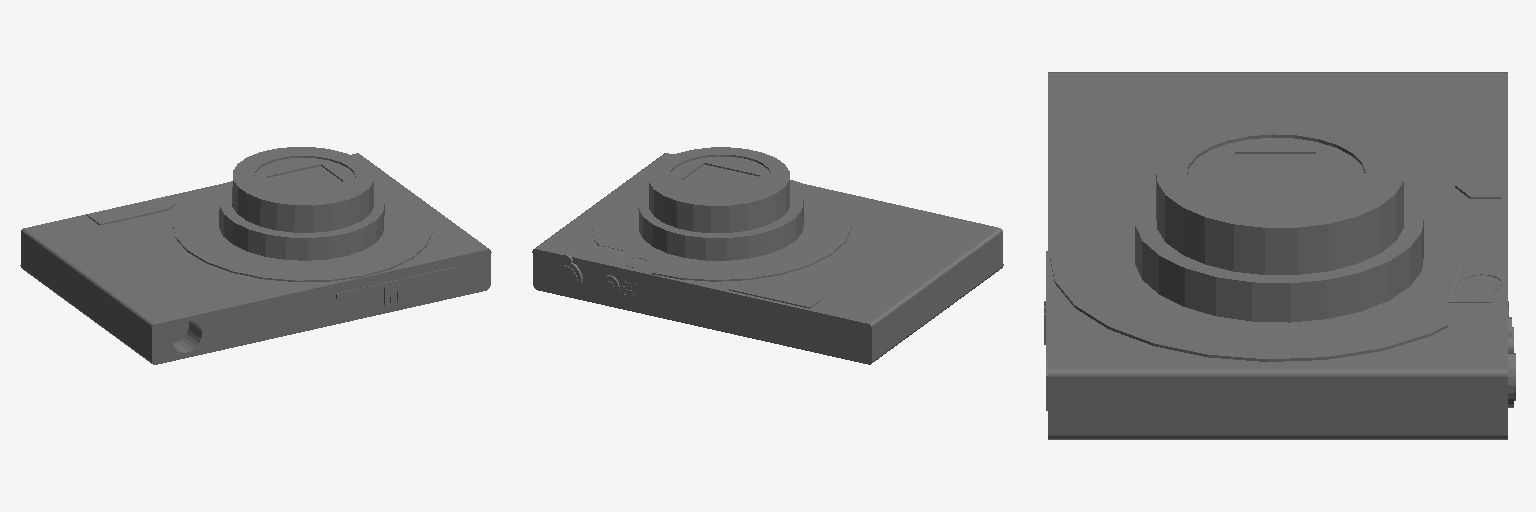
The robot description file, URDF, robot "object":
<?xml version="1.0"?>
<robot name="object">
  <link name="object">
    <visual>
      <origin xyz="0 0 0"/>
      <geometry>
        <mesh
          filename="../../mesh/oakink_virtual/cameras_s145.stl" />
      </geometry>
      <material name="mat">
        <color rgba="0.5 0.5 0.5 1"/>
      </material>
    </visual>

    <collision>
      <origin xyz="0 0 0"/>
      <geometry>
        <mesh
          filename="../../mesh/oakink_virtual/cameras_s145.stl" />
      </geometry>
    </collision>
  </link>
</robot>

--- Render facts (derived) ---
3 views of the same robot in one strip: view 1: azimuth 30°, elevation 25°; view 2: azimuth 150°, elevation 25°; view 3: azimuth 270°, elevation 25° (orthographic).
Model object with 1 links and 0 joints (none), rooted at object, posed all joints at 0.
Visible links, largest first — view 1: object; view 2: object; view 3: object.
Boxes of the visible links, bbox=[...] form: object: bbox=[20, 147, 491, 364]; object: bbox=[532, 147, 1003, 364]; object: bbox=[1044, 72, 1515, 439].
Size in the robot's own frame: 0.1356 by 0.0929 by 0.0376 metres.
1 mesh visuals loaded from 1 distinct referenced files (1 binary STL).